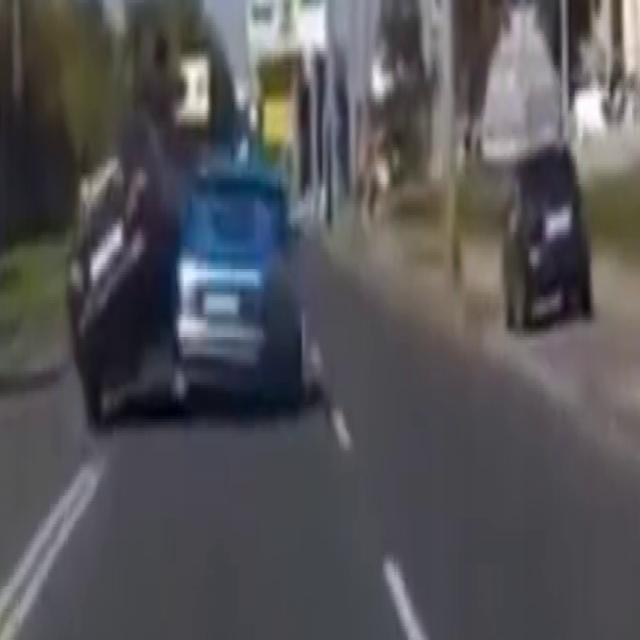accident: (68, 116, 312, 406)
